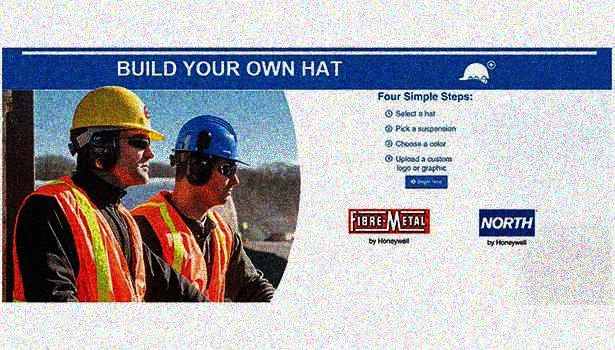helmet: (66, 84, 164, 188), (168, 113, 251, 205)
